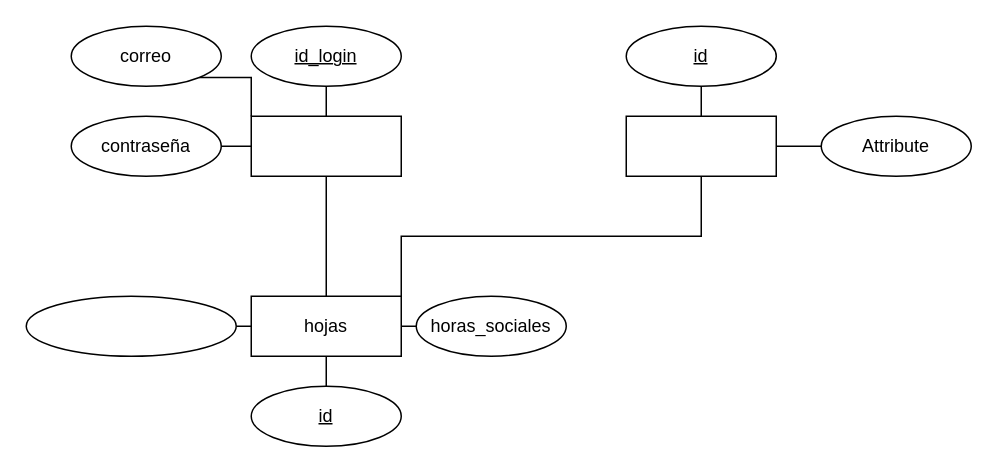
This 998x473 diagram has some shape labels left out. Here are the shapes that lost their labels. From the top down, the box of each, then its label:
(250, 115, 401, 176): login
(625, 115, 776, 176): usuario
(25, 295, 236, 356): horas_constitucionales
